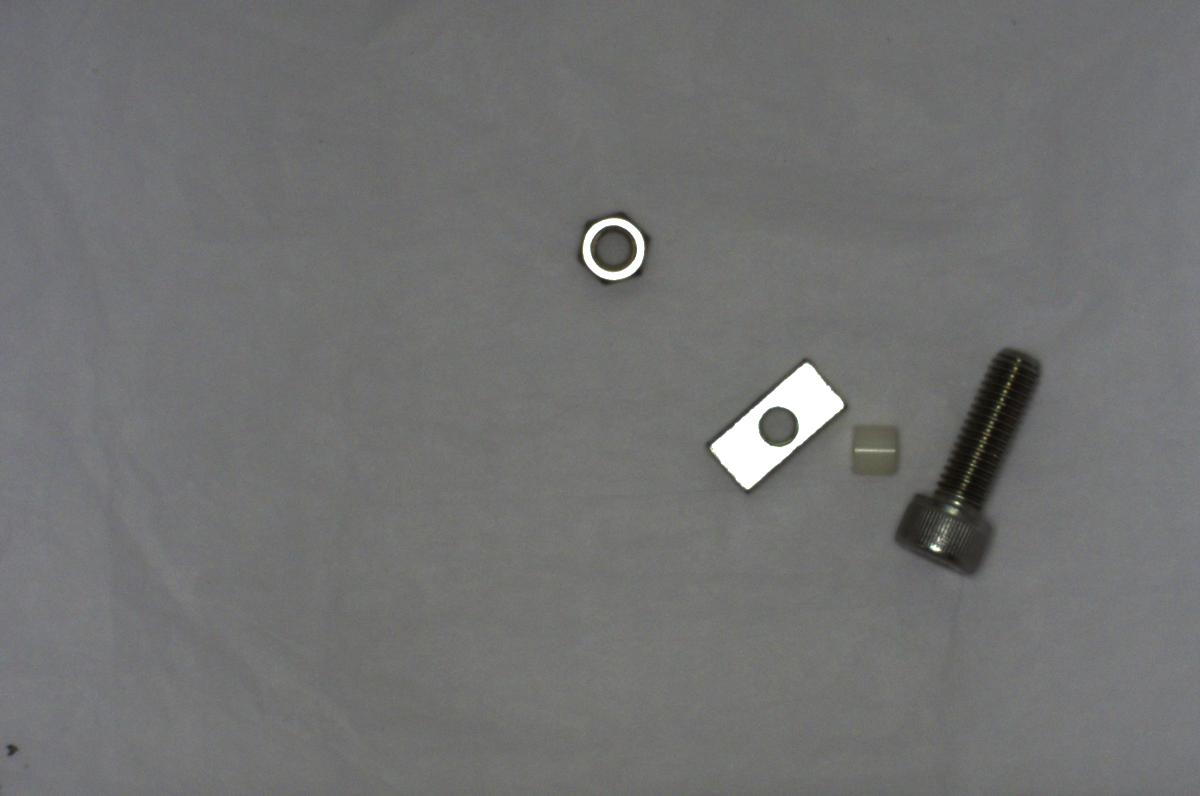Hexagon nut: (572, 207, 654, 292)
Hexagon screw: (890, 336, 1042, 578)
Plastic cushion pillar: (846, 415, 912, 483)
Rectangular nut: (688, 353, 846, 492)
